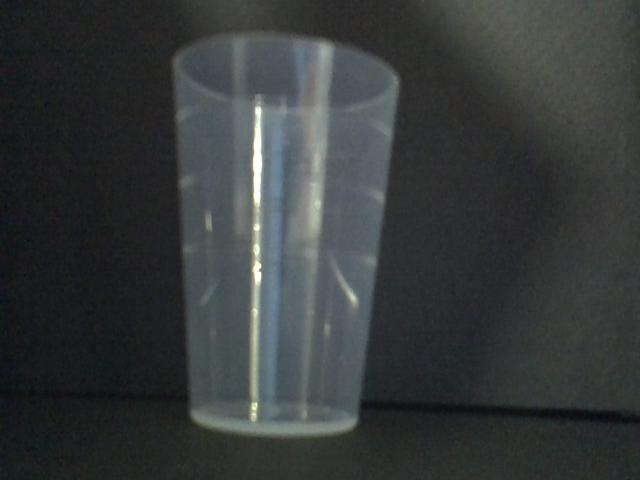cup: (168, 32, 397, 440)
